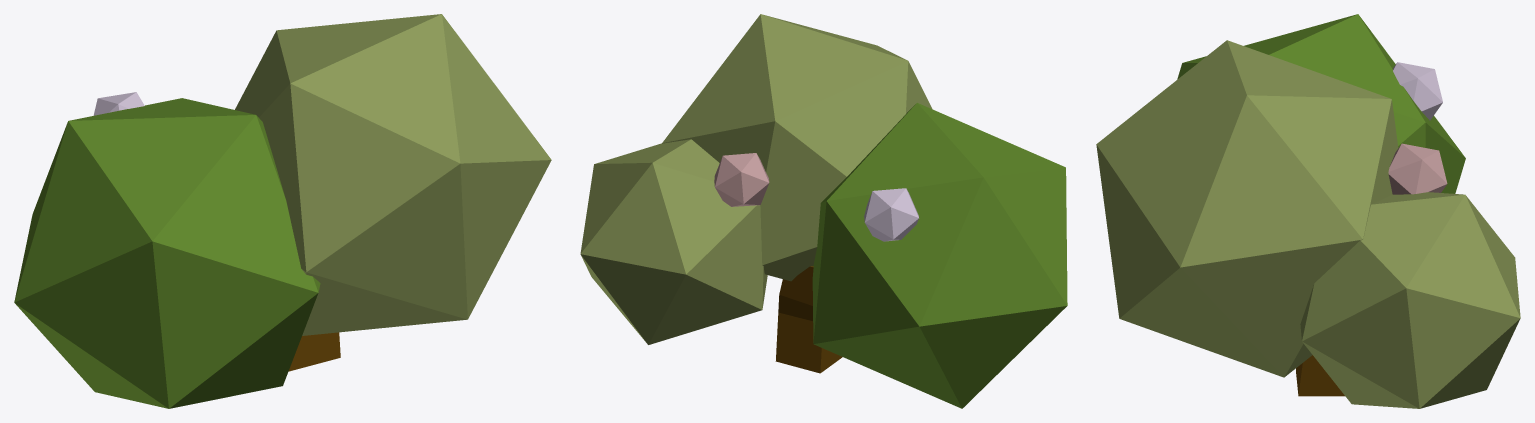
Rendered from witheredbush2.fbx.
3 renders of one model, left to right at view 1: azimuth 30°, elevation 25°; view 2: azimuth 150°, elevation 25°; view 3: azimuth 270°, elevation 25°, orthographic. The views are drawn at different scales.
Visible parts, largest first — view 1: Cube.005; view 2: Cube.005; view 3: Cube.005.
Part boxes in pixels (bbox=[...]): Cube.005: bbox=[14, 14, 551, 408]; Cube.005: bbox=[580, 14, 1067, 408]; Cube.005: bbox=[1096, 14, 1520, 408].
Size of the model in its own units: 188 by 124 by 140.
